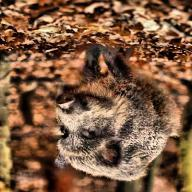boar: (52, 40, 181, 188)
